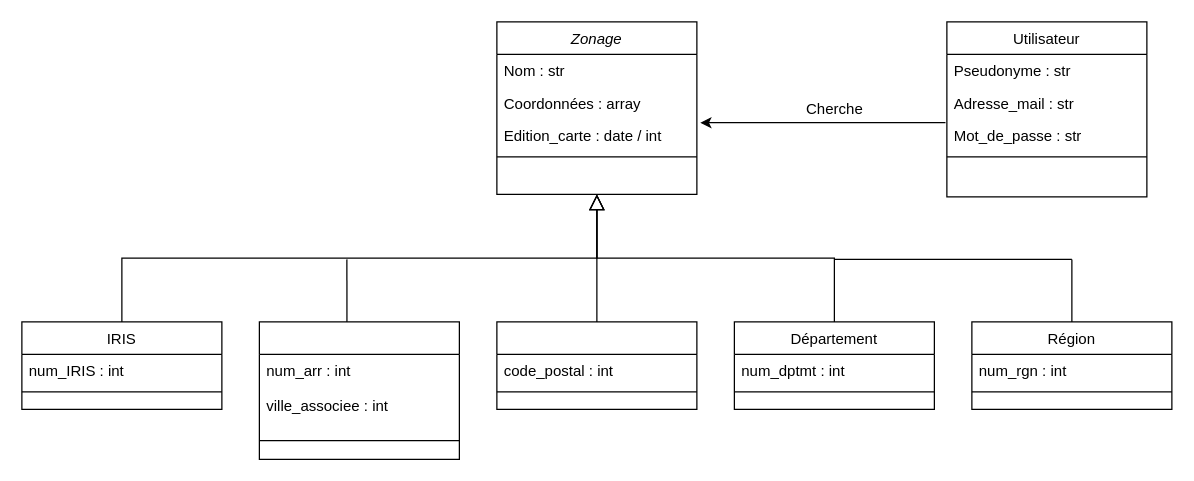
This 1194x481 diagram has some shape labels left out. Here are the shapes that lost their labels. From the top down, the box of each, then its label:
(496, 321, 697, 409): Commune
(258, 321, 459, 459): Arrondissement
